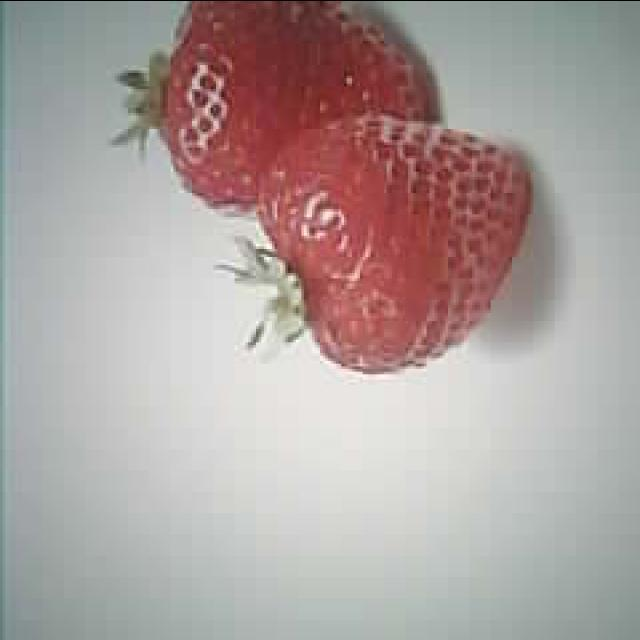ripe: (262, 110, 526, 372), (160, 0, 430, 213)
